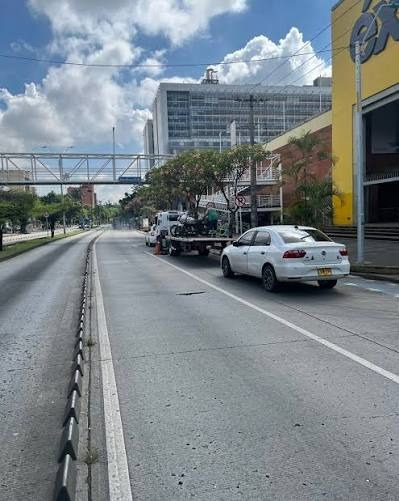car: (220, 225, 348, 290), (154, 211, 231, 258)
